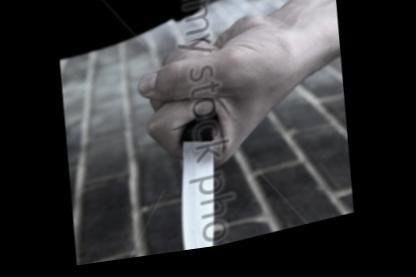knife: (132, 49, 250, 260)
